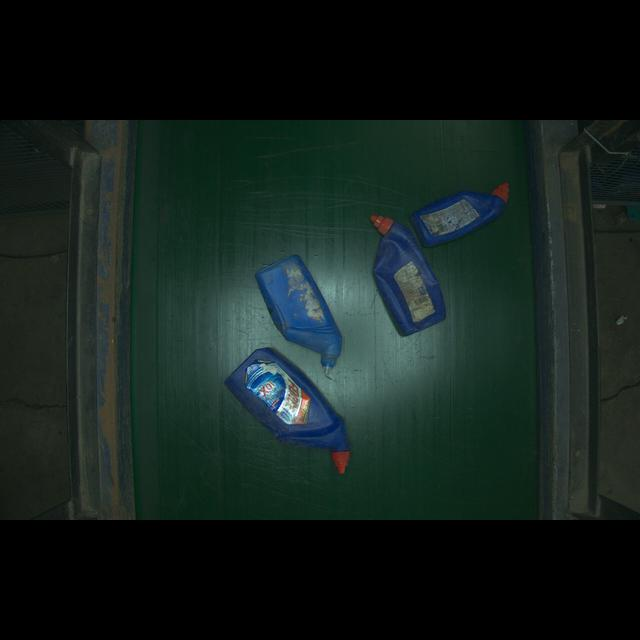mix HD: (201, 344, 370, 491), (237, 252, 373, 379), (325, 213, 461, 336), (411, 176, 534, 248)
